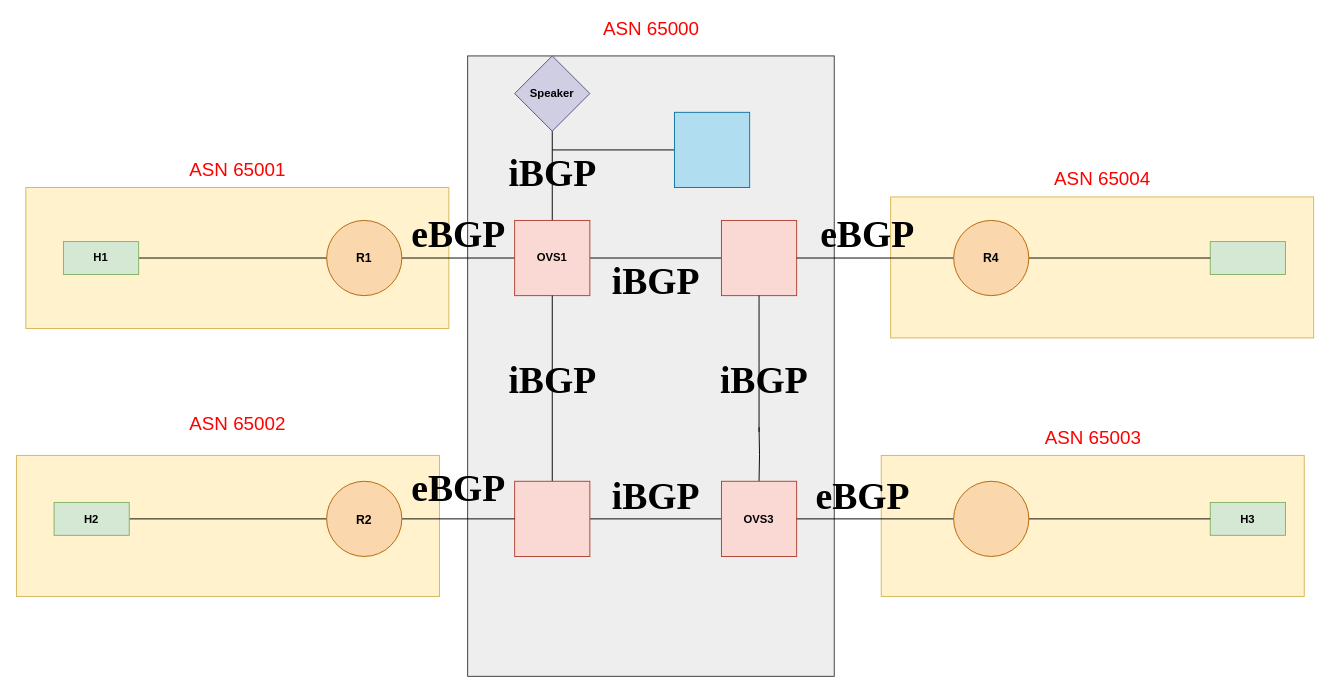
The diagram is 1330 pixels wide and 693 high, and some of its shapes have lost their labels. The box of each missing label's shape, as (x1, y1, x2, y2) in pixels:
H4: (1209, 241, 1285, 274)
ONOS: (674, 111, 750, 188)
OVS2: (514, 480, 590, 556)
OVS4: (721, 219, 797, 296)
R3: (953, 480, 1029, 556)
